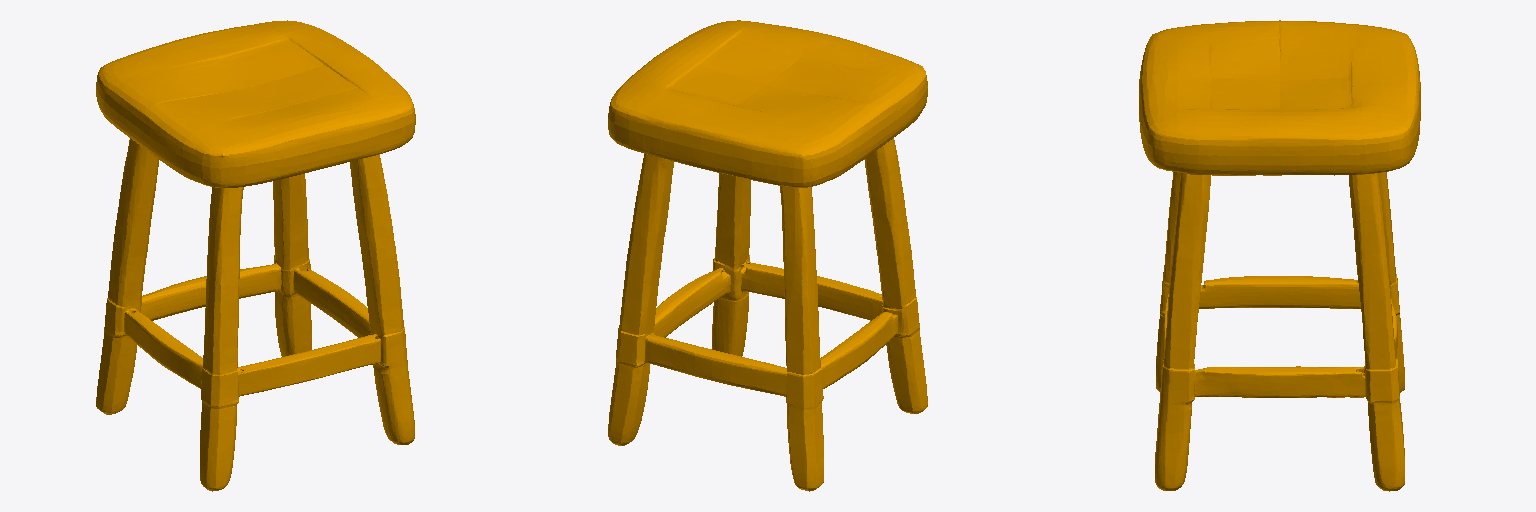
URDF robot description (bar_stool_38):
<?xml version="1.0" ?>
<robot name="bar_stool_38">
   <link name="bar_stool_38">
      <visual>
         <origin xyz="0 0 0" rpy="1.5708 0.0 0.0"/>
         <geometry>
            <mesh filename="mesh/bar_stool_38.obj" scale="1.0 1.0 1.0"/>
         </geometry>
      </visual>
      <collision>
         <origin xyz="0 0 0" rpy="1.5708 0.0 0.0"/>
         <geometry>
            <mesh filename="mesh/bar_stool_38_collision.obj" scale="1.0 1.0 1.0"/>
         </geometry>
         <gazebo>
            <mu1>0.70</mu1>
            <mu2>0.60</mu2>
         </gazebo>
      </collision>
      <inertial>
         <mass value="5.5000"/>
         <origin xyz="0 0 0"/>
         <inertia ixx="1.0" ixy="0.0" ixz="0.0" iyy="1.0" iyz="0.0" izz="1.0"/>
      </inertial>
      <extra_info>
         <scale>0.700000</scale>
         <version>v0.1.5</version>
         <category>bar_stool</category>
         <description>wooden bar stool with cushioned seat and four sturdy legs</description>
         <min_height>0.65</min_height>
         <max_height>0.75</max_height>
         <real_height>0.7</real_height>
         <min_mass>4.5</min_mass>
         <max_mass>6.5</max_mass>
         <generate_time>20251021125047</generate_time>
         <gs_model>mesh/bar_stool_38_gs.ply</gs_model>
      </extra_info>
   </link>
   <custom_data>
      <quality>
         <MeshGeoChecker>YES</MeshGeoChecker>
         <ImageSegChecker>YES</ImageSegChecker>
         <ImageAestheticChecker>4.656800746917725</ImageAestheticChecker>
         <overall>YES</overall>
      </quality>
   </custom_data>
</robot>

--- What the picture shows (computed from the rendered views, not written in the file) ---
3 views of the same robot in one strip: view 1: azimuth 30°, elevation 25°; view 2: azimuth 150°, elevation 25°; view 3: azimuth 270°, elevation 25° (orthographic).
Model bar_stool_38 with 1 links and 0 joints (none), rooted at bar_stool_38, posed every joint at zero.
Visible links, largest first — view 1: bar_stool_38; view 2: bar_stool_38; view 3: bar_stool_38.
Boxes of the visible links, x1=… form: bar_stool_38: x1=96, y1=20, x2=415, y2=491; bar_stool_38: x1=608, y1=20, x2=927, y2=491; bar_stool_38: x1=1139, y1=20, x2=1420, y2=491.
Bounding box of the posed robot: 0.4864 × 0.4879 × 0.7 m (x, y, z).
1 mesh visuals loaded from 1 distinct referenced files (1 OBJ).
